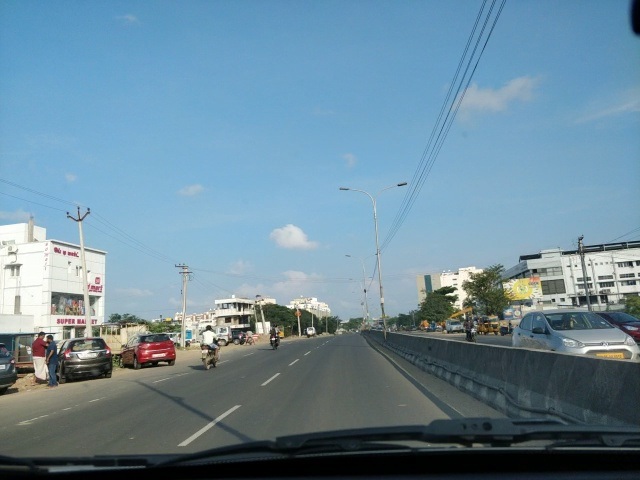car: (511, 302, 639, 357), (54, 338, 111, 381), (119, 330, 179, 370), (303, 326, 318, 340)
motorbike: (200, 322, 219, 372), (460, 315, 477, 339), (266, 324, 282, 348)
person: (30, 333, 53, 385)
